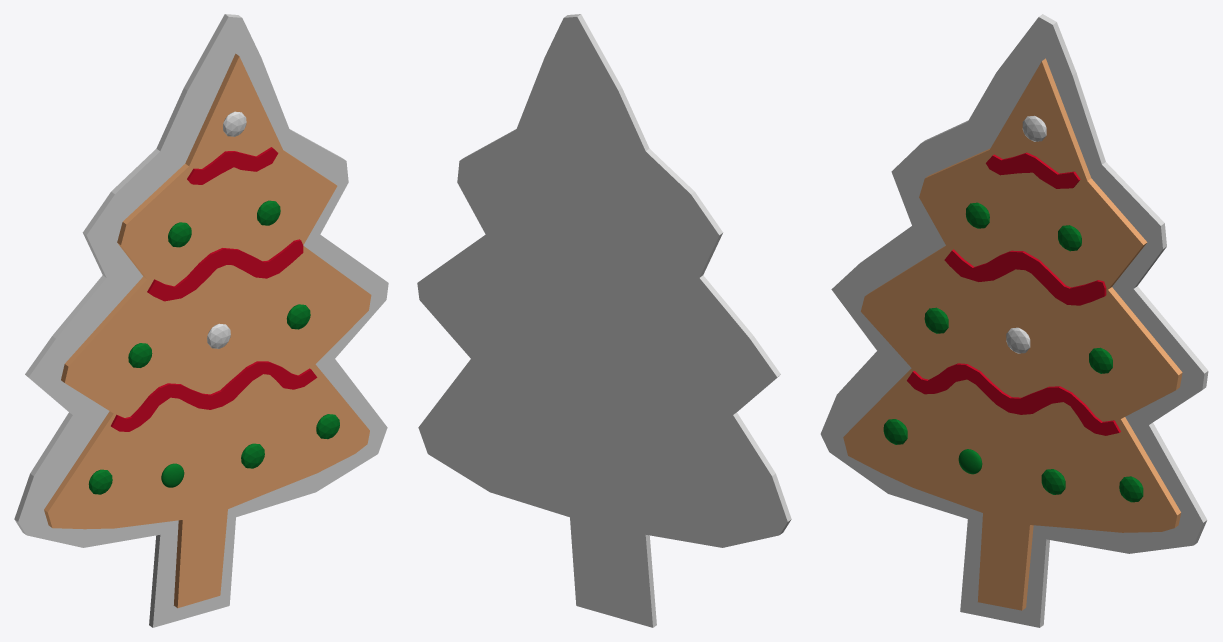
The model's file is Tree2.glb.
The picture shows the model from 3 angles, left to right: view 1: azimuth 30°, elevation 25°; view 2: azimuth 150°, elevation 25°; view 3: azimuth 330°, elevation 25°; orthographic projection. The views are drawn at different scales.
Visible parts, largest first — view 1: Tree2; view 2: Tree2; view 3: Tree2.
Part boxes in pixels (x1,y1,x2,y2): Tree2: [14, 14, 388, 627]; Tree2: [417, 14, 791, 627]; Tree2: [820, 14, 1208, 627].
Bounding box in the file's own units: 0.2772 × 0.4237 × 0.0147.
